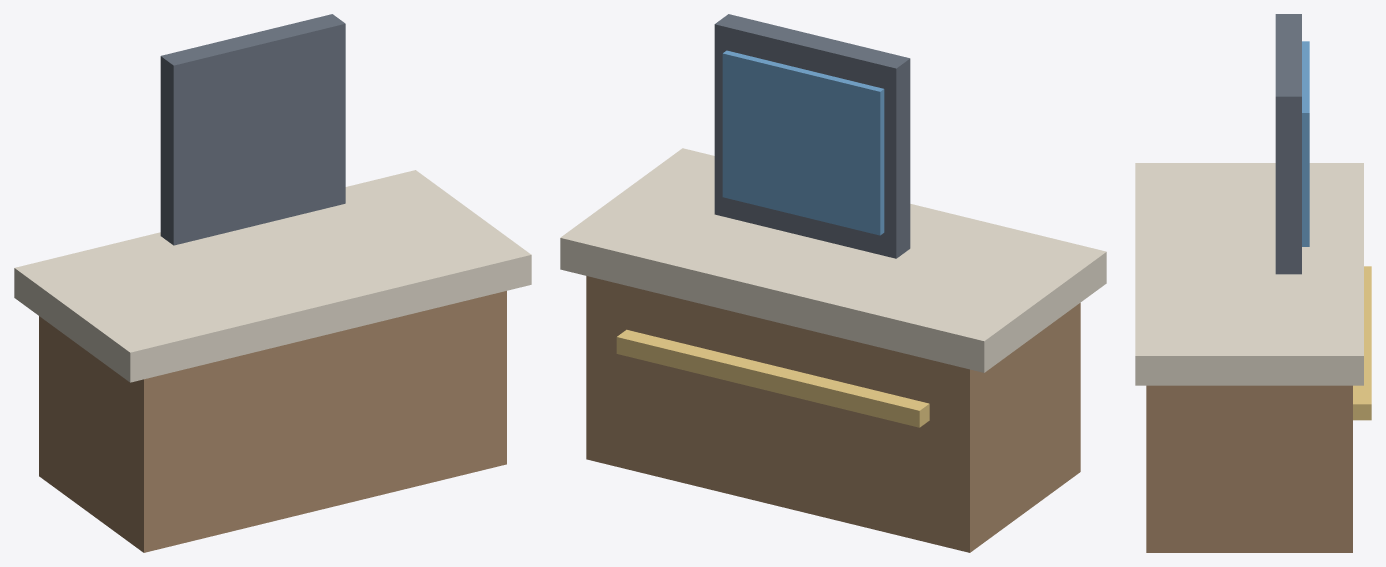
Rendered from business-kiosk.glb.
3 renders of one model, left to right at view 1: azimuth 30°, elevation 25°; view 2: azimuth 150°, elevation 25°; view 3: azimuth 270°, elevation 25°, orthographic. The views are drawn at different scales.
Visible parts, largest first — view 1: world; view 2: world; view 3: world.
Part boxes in pixels (x1,y1,x2,y2): world: (14, 14, 531, 552); world: (560, 14, 1106, 552); world: (1135, 14, 1371, 552).
Bounding box in the file's own units: 2.1 × 2.08 × 1.09.
